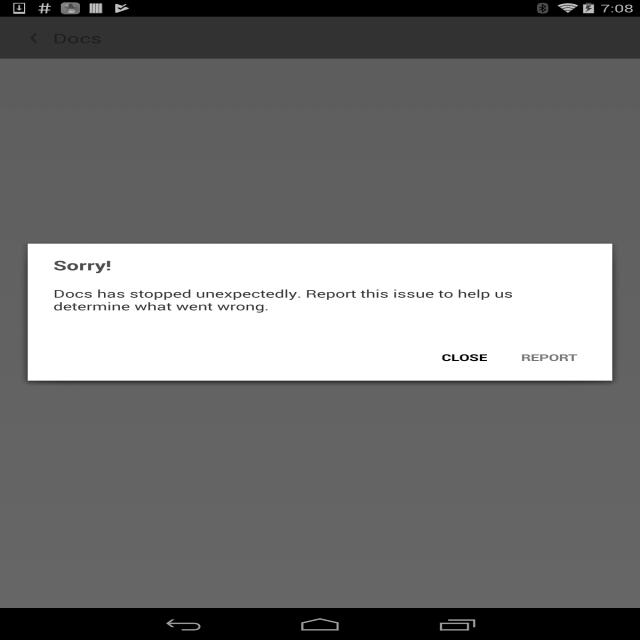ImageButton: (24, 30, 47, 48)
TextView: (52, 285, 510, 312), (48, 252, 122, 272), (434, 346, 493, 366), (514, 347, 578, 365), (52, 30, 102, 44)
